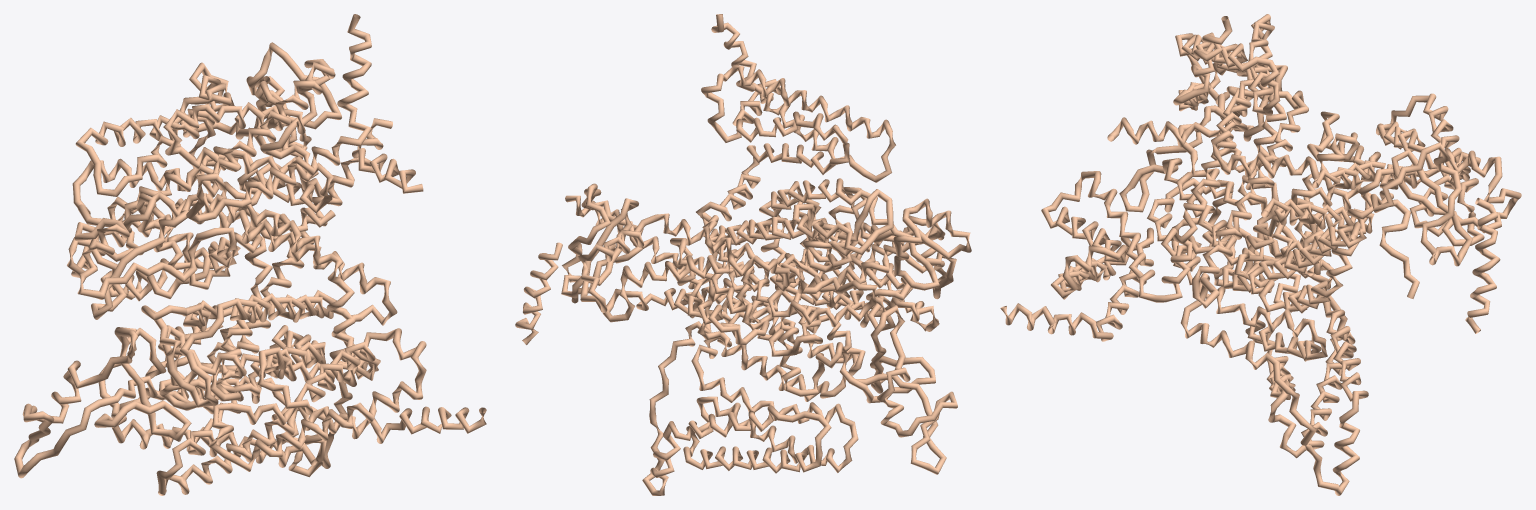
Rendered from 9p24-backbone.glb.
The picture shows the model from 3 angles, left to right: view 1: azimuth 30°, elevation 25°; view 2: azimuth 150°, elevation 25°; view 3: azimuth 270°, elevation 25°; orthographic projection. The views are drawn at different scales.
Parts seen in each view (by area): view 1: 9P24 chain A; view 2: 9P24 chain A; view 3: 9P24 chain A.
Part boxes in pixels (box(x1,y1,x2,y2)): 9P24 chain A: box(14, 14, 486, 495); 9P24 chain A: box(515, 14, 971, 495); 9P24 chain A: box(1000, 14, 1521, 495).
Size of the model in its own units: 2.03 by 2.42 by 2.42.
